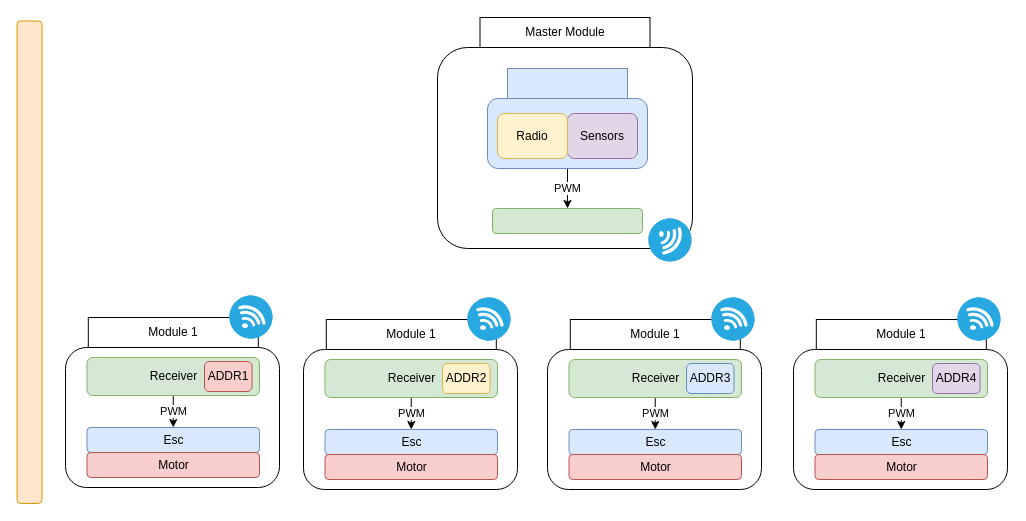
Image size: 1026x521. Some labels were removed from this diagram. Each missing label, with the centre of its shape:
"Battery" belongs at pixel 29 261.
"Flght Controller" belongs at pixel 567 83.
"Transmitter" belongs at pixel 567 221.
